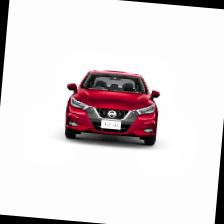NON-EV: (63, 68, 167, 150)
